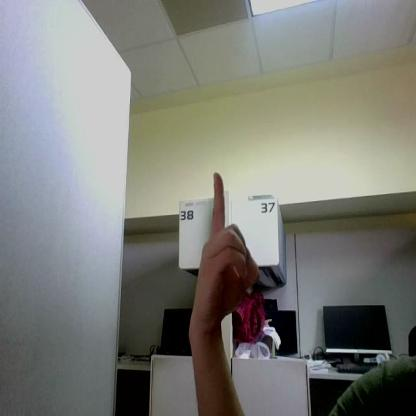D: (198, 172, 257, 326)
